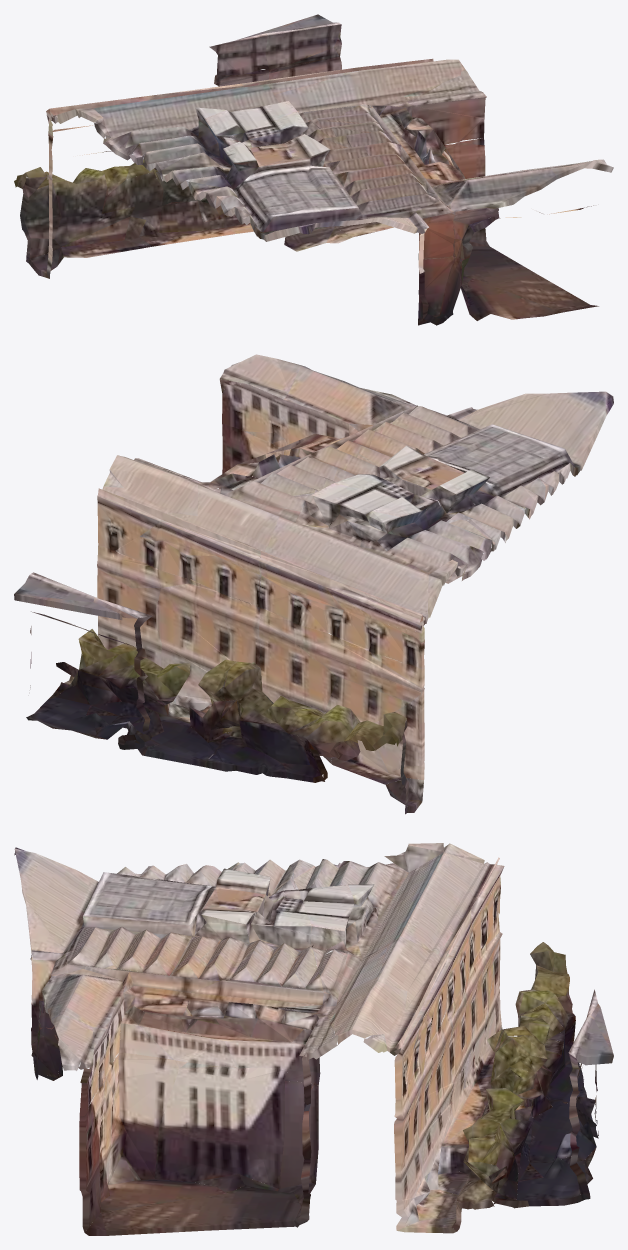
3 renders of one model, top to bottom at view 1: azimuth 30°, elevation 25°; view 2: azimuth 150°, elevation 25°; view 3: azimuth 270°, elevation 25°, orthographic. The views are drawn at different scales.
Parts seen in each view (by area): view 1: Mesh_0; view 2: Mesh_0; view 3: Mesh_0.
Part boxes in pixels (x1=…): Mesh_0: x1=14, y1=14, x2=613, y2=325; Mesh_0: x1=14, y1=354, x2=613, y2=814; Mesh_0: x1=14, y1=843, x2=613, y2=1235.
Bounding box in the file's own units: 66.55 × 35.45 × 82.65.
2 materials, 2 textured.
